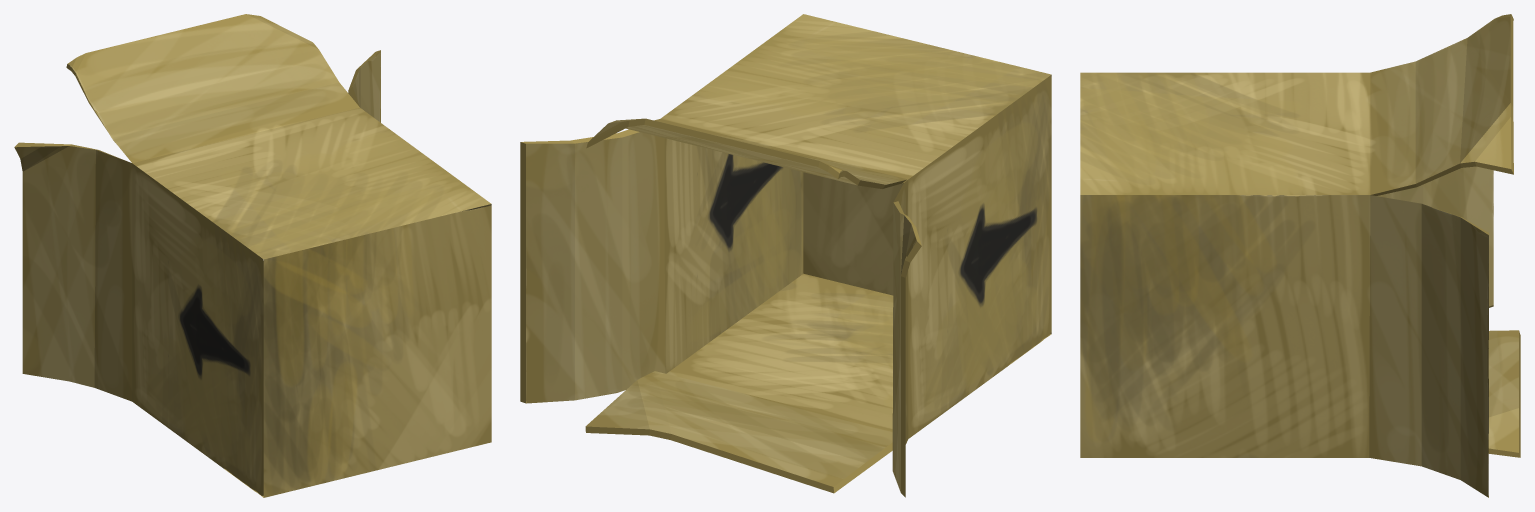
Rendered from Open_Box.fbx.
3 views of the same model, side by side, from view 1: azimuth 30°, elevation 25°; view 2: azimuth 150°, elevation 25°; view 3: azimuth 270°, elevation 25° (orthographic). The views are drawn at different scales.
Visible parts, largest first — view 1: Cube; view 2: Cube; view 3: Cube.
Part boxes in pixels (x1,y1,x2,y2): Cube: (14,14,491,497); Cube: (520,14,1051,497); Cube: (1080,14,1520,497).
Size of the model in its own units: 96.8 by 75.02 by 91.1.
1 material, 1 textured.
